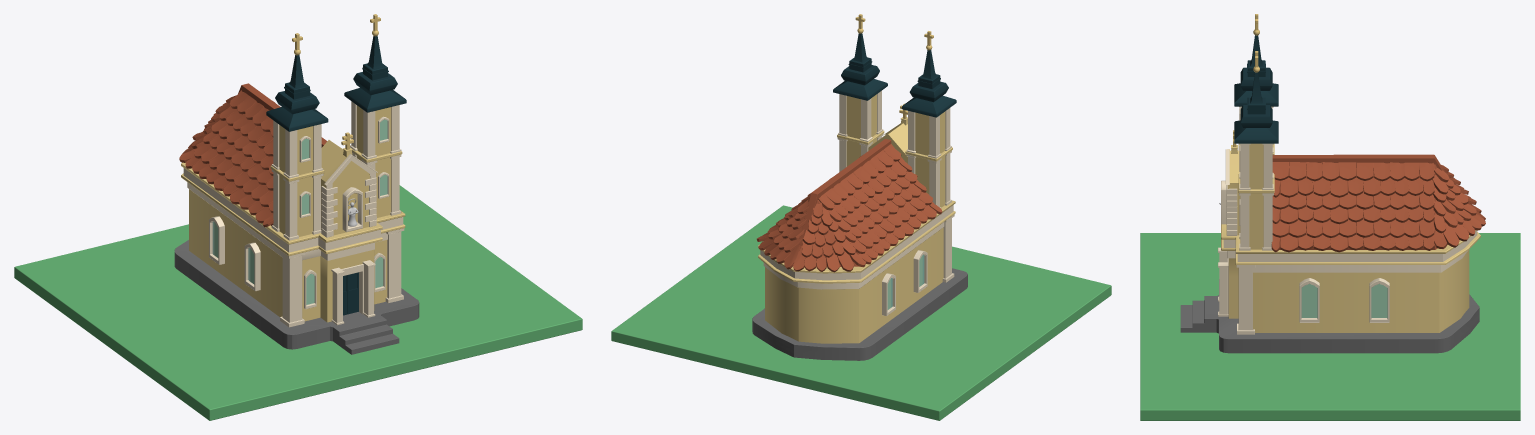
Rendered from church_real.glb.
3 views of the same model, side by side, from view 1: azimuth 30°, elevation 25°; view 2: azimuth 150°, elevation 25°; view 3: azimuth 270°, elevation 25° (orthographic). The views are drawn at different scales.
Visible parts, largest first — view 1: Cube.051, Wall, Wall.001, Cube.003, Cube.014, Cube.039, Cube.002, Cube.001, Cube.021, Cube.035, Wall.002, Cube.013 (+9 smaller); view 2: Cube.051, Wall, Wall.001, Cube.014, Cube.003, Cube.001, Cube.021, Cube.045, Wall.002, Cube.034, Cube.033, Cube.037 (+4 smaller); view 3: Cube.051, Wall, Wall.001, Cube.014, Cube.001, Cube.021, Cube.003, Wall.002, Cube.045, Cube.039, Cube.013, Cube.035 (+8 smaller).
Boxes of the visible parts, x1,y1,x2,y2 form: Cube.051: [14, 185, 582, 420]; Wall: [189, 189, 387, 322]; Wall.001: [174, 240, 419, 354]; Cube.003: [270, 105, 402, 236]; Cube.014: [266, 36, 406, 131]; Cube.039: [279, 228, 404, 327]; Cube.002: [321, 140, 370, 235]; Cube.001: [181, 162, 405, 255]; Cube.021: [183, 168, 403, 252]; Cube.035: [283, 154, 401, 240]; Wall.002: [187, 182, 387, 260]; Cube.013: [331, 260, 375, 325]; Cube.051: [611, 205, 1111, 420]; Wall: [765, 227, 943, 343]; Wall.001: [752, 268, 967, 360]; Cube.014: [833, 33, 956, 117]; Cube.003: [837, 94, 952, 207]; Cube.001: [758, 200, 955, 283]; Cube.021: [760, 205, 953, 280]; Cube.045: [799, 139, 891, 246]; Wall.002: [763, 222, 944, 289]; Cube.034: [859, 98, 915, 153]; Cube.033: [838, 94, 941, 158]; Cube.037: [837, 137, 941, 208]; Cube.051: [1140, 233, 1520, 420]; Wall: [1228, 250, 1469, 332]; Wall.001: [1180, 279, 1479, 353]; Cube.014: [1234, 35, 1278, 143]; Cube.001: [1221, 224, 1480, 264]; Cube.021: [1223, 230, 1477, 261]; Cube.003: [1238, 143, 1274, 249]; Wall.002: [1227, 249, 1469, 272]; Cube.045: [1272, 154, 1445, 172]; Cube.039: [1236, 265, 1255, 334]; Cube.013: [1218, 247, 1228, 316]; Cube.035: [1239, 193, 1250, 250].
Size of the model in its own units: 23.6 by 18.59 by 21.42.
